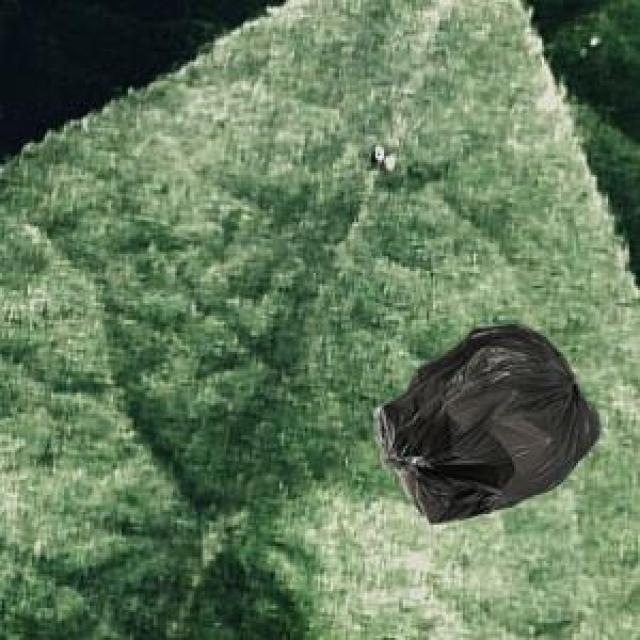waste: (376, 329, 599, 522)
